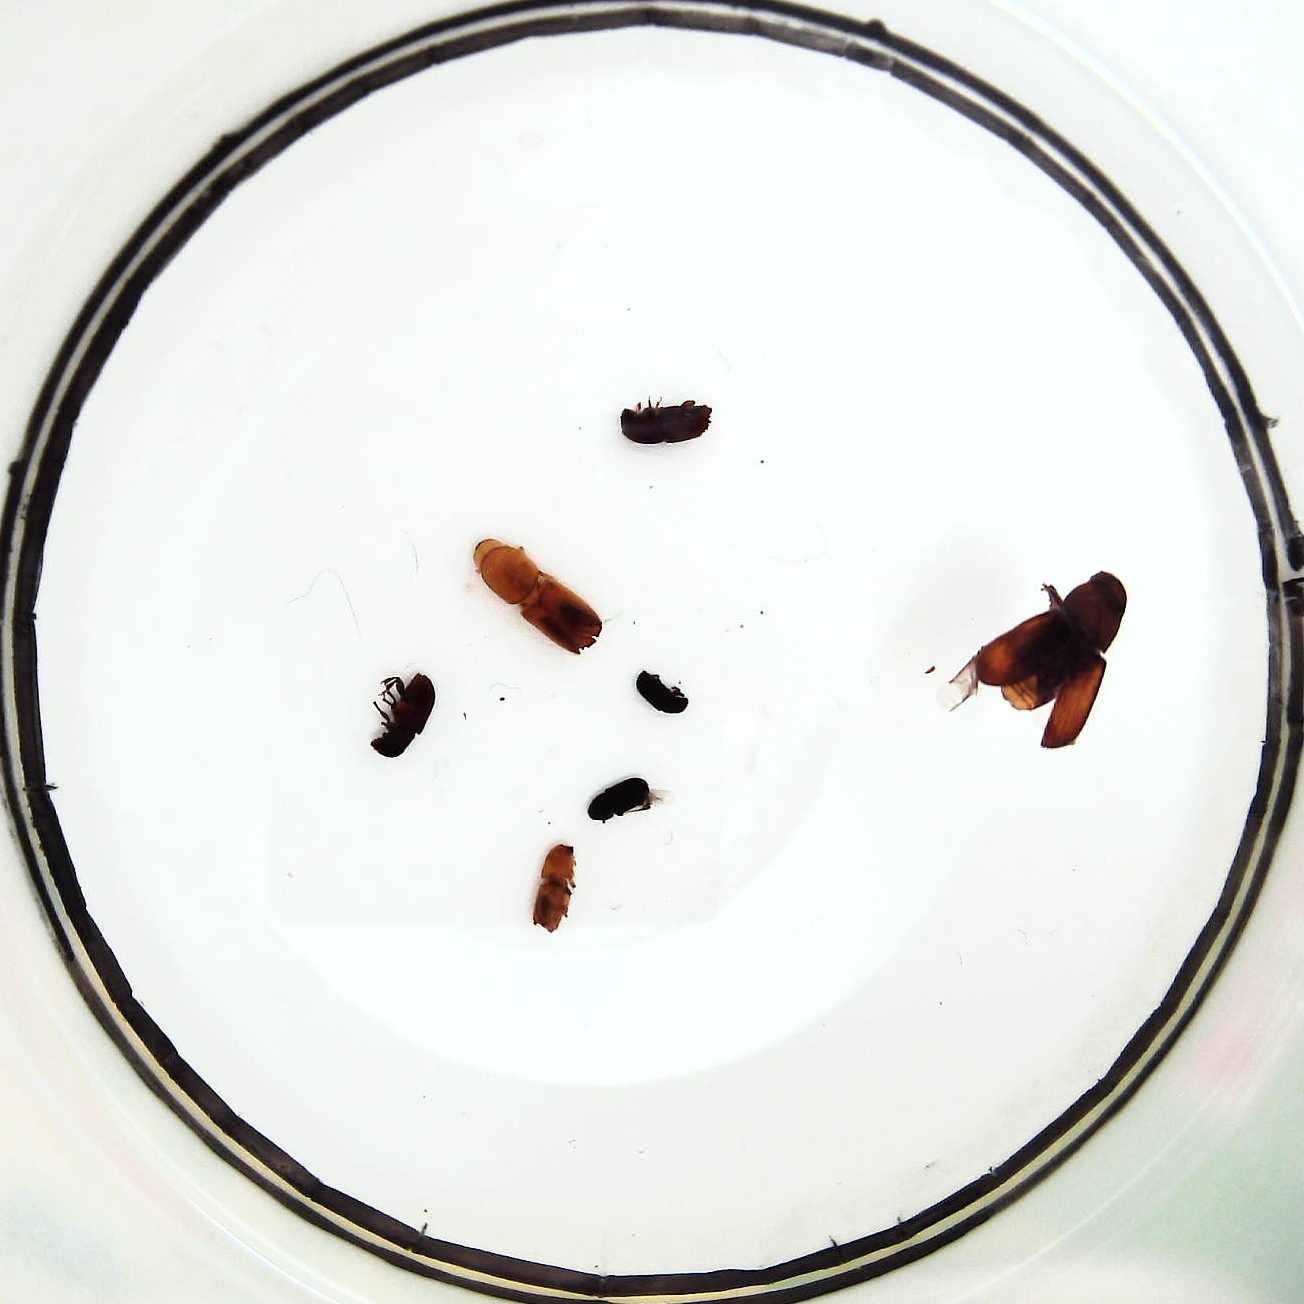Boerner: (472, 531, 603, 654)
Leconte: (974, 568, 1131, 749)
Linnaeus: (619, 402, 715, 445)
acuminatus: (534, 845, 578, 931)
armandi: (370, 676, 439, 758)
coleoptera: (588, 776, 654, 822), (634, 669, 688, 716)
